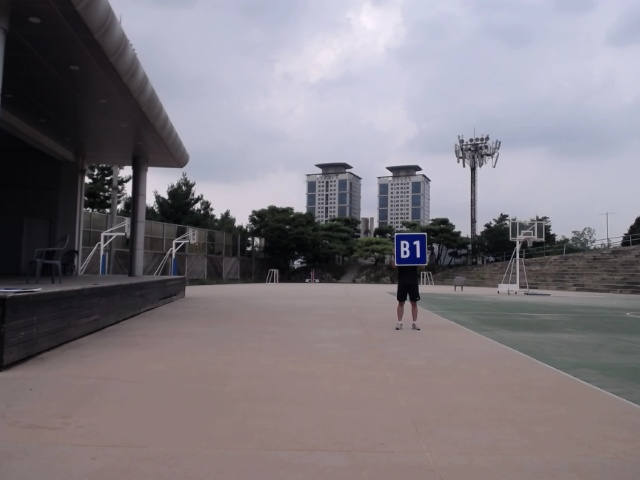delivery_b1: (395, 233, 427, 265)
